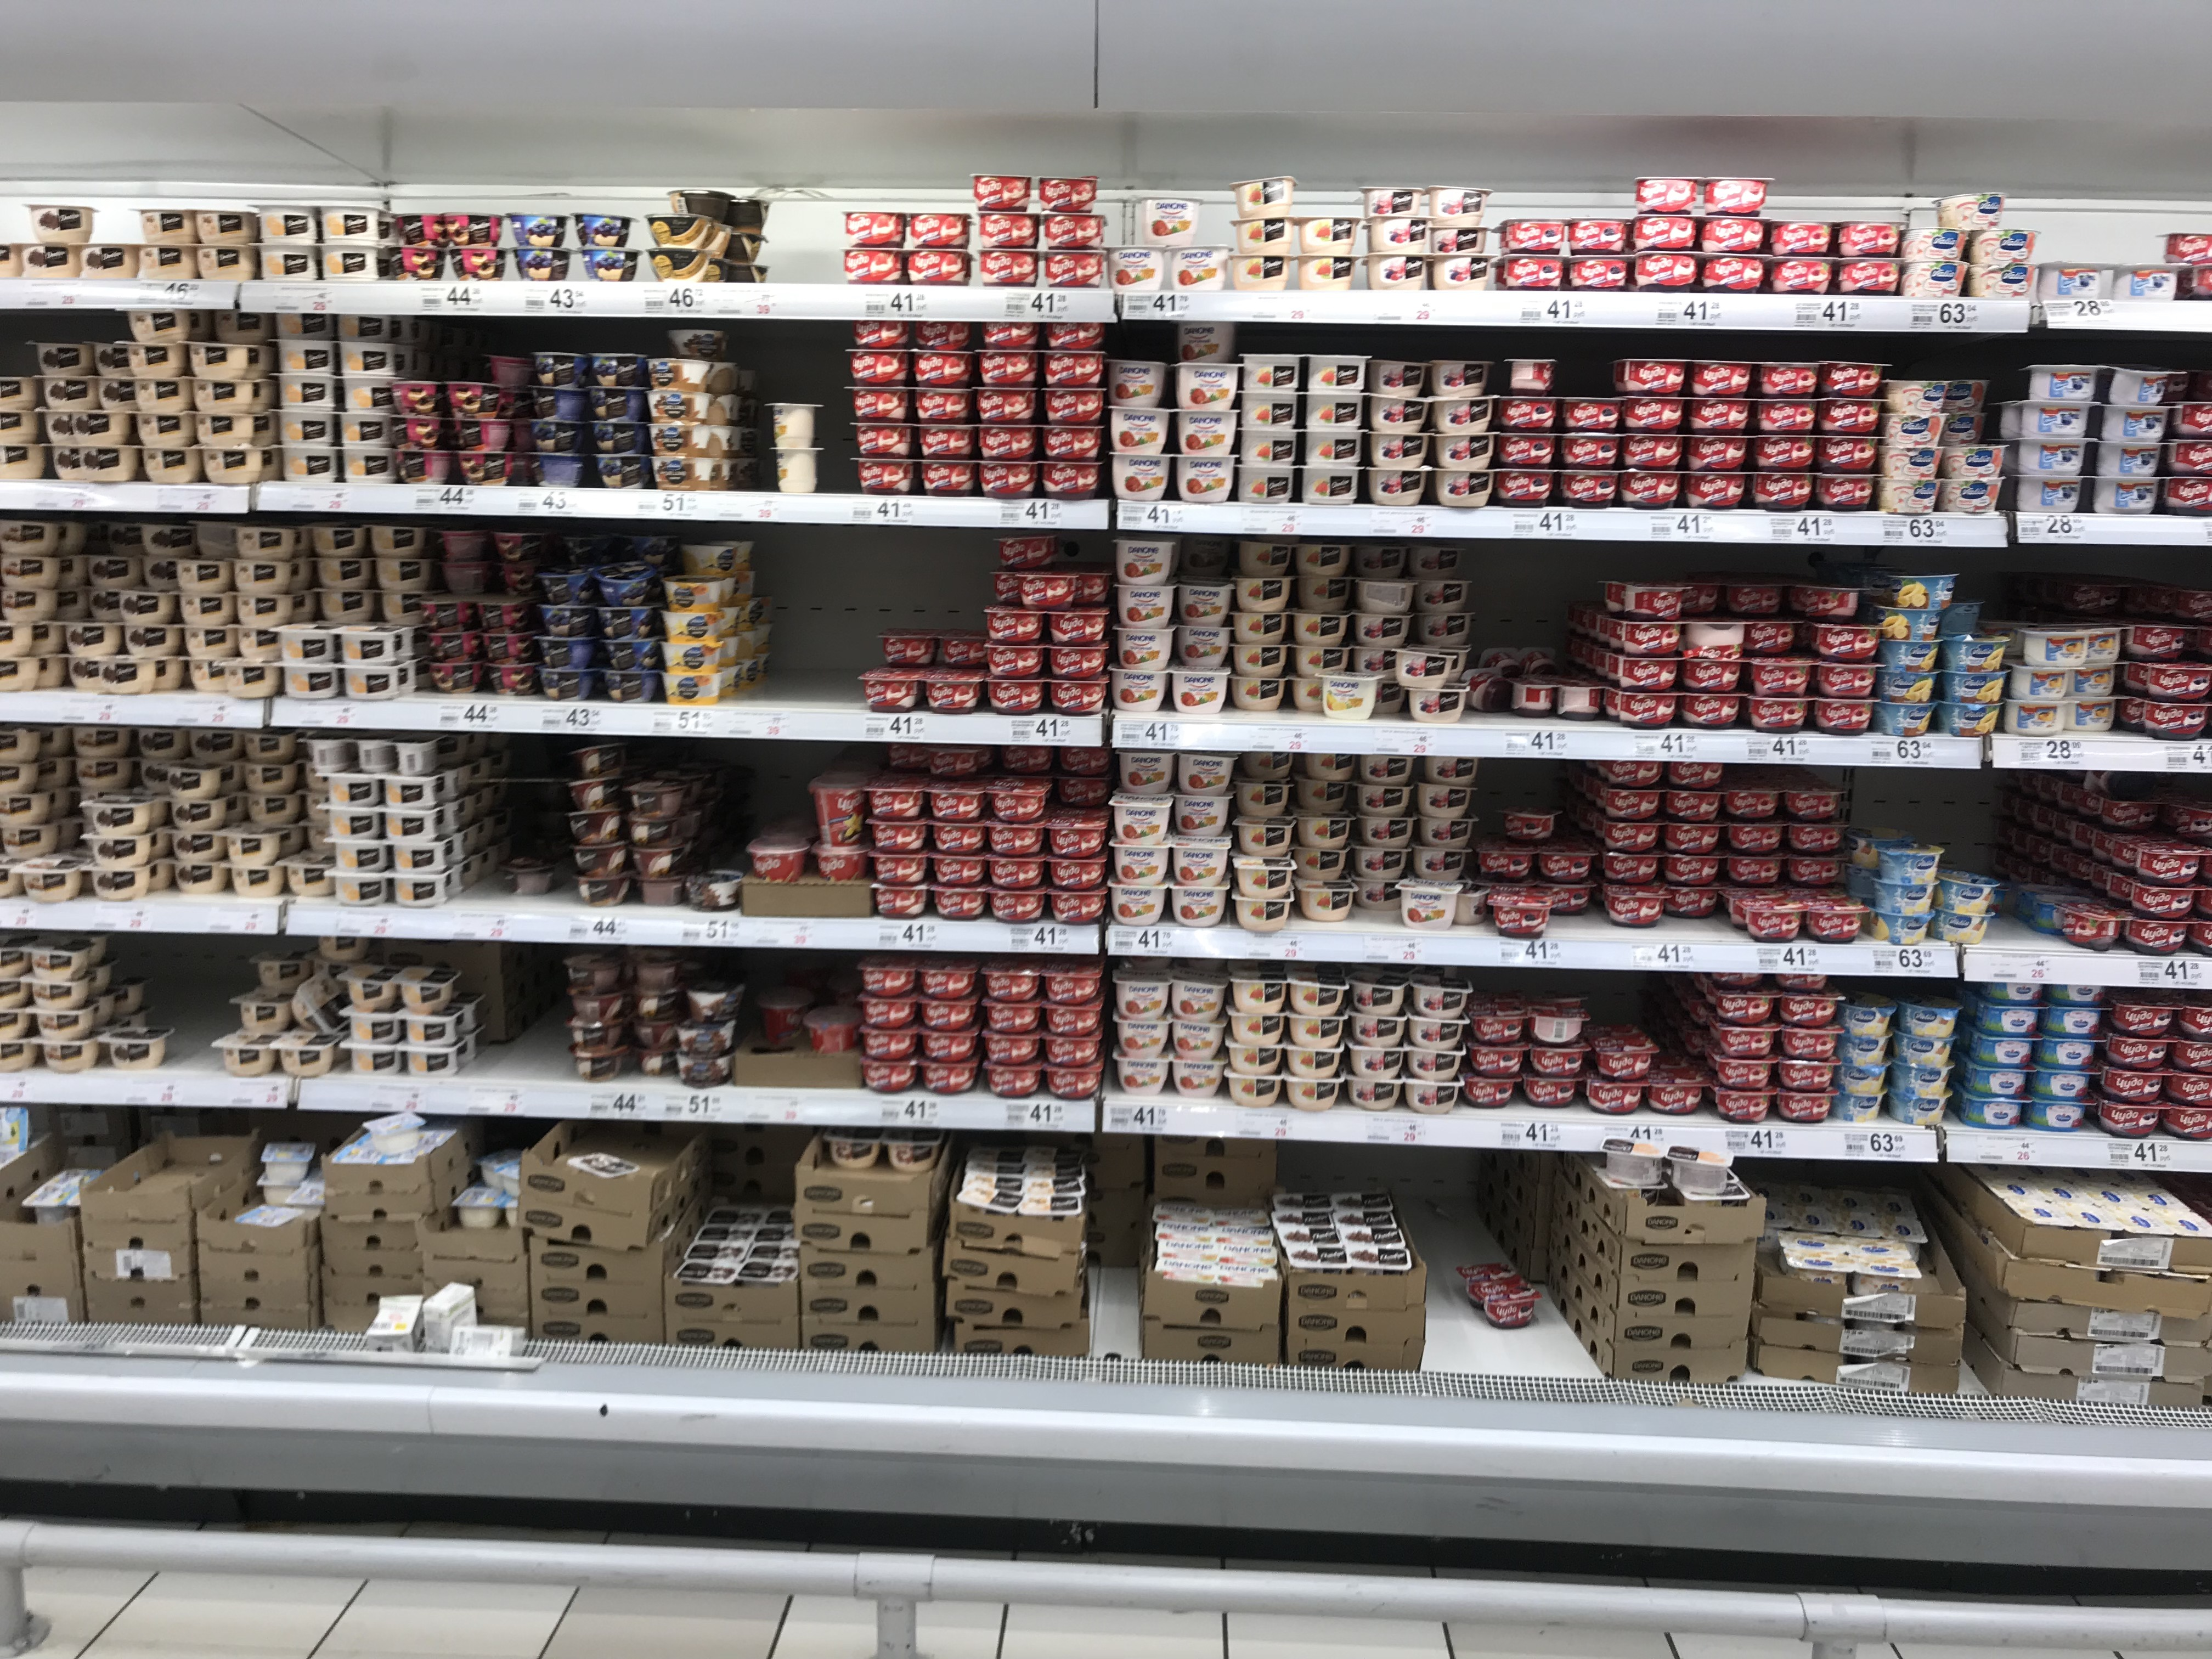yogbox: (810, 775, 866, 849), (2017, 397, 2095, 439), (2134, 842, 2207, 884), (1493, 894, 1557, 941), (747, 838, 805, 890), (805, 1007, 860, 1060), (1872, 840, 1942, 882), (2022, 629, 2092, 671), (2099, 1061, 2170, 1101), (2029, 362, 2101, 403), (1933, 868, 1996, 913), (756, 990, 803, 1047), (923, 673, 988, 714), (1871, 605, 1944, 641), (1482, 1284, 1543, 1328), (2059, 904, 2120, 948), (841, 347, 909, 385), (2015, 472, 2083, 511), (812, 845, 866, 892), (1038, 173, 1101, 213), (1787, 1253, 1850, 1293), (991, 775, 1049, 819), (2015, 439, 2087, 474), (840, 211, 907, 247), (904, 249, 972, 286), (1806, 903, 1865, 945), (906, 207, 970, 246), (979, 249, 1043, 288), (455, 1180, 503, 1230), (361, 1117, 430, 1152), (1851, 1263, 1921, 1298), (1892, 572, 1958, 608), (1040, 460, 1103, 498), (881, 629, 939, 671), (928, 782, 986, 824), (2006, 699, 2069, 737), (860, 673, 920, 713), (1595, 1040, 1660, 1077), (975, 213, 1036, 251), (1959, 1094, 2026, 1129), (2010, 664, 2076, 699), (1648, 1072, 1705, 1112), (1608, 890, 1665, 931), (1500, 803, 1562, 840), (1017, 572, 1076, 610), (981, 962, 1040, 1000), (1587, 1075, 1646, 1114), (864, 850, 932, 884), (1712, 1025, 1777, 1060), (1474, 847, 1538, 882), (2038, 263, 2102, 298), (859, 955, 914, 995), (911, 349, 972, 385), (1932, 906, 1993, 943), (2135, 884, 2196, 920), (2146, 702, 2207, 739), (981, 460, 1038, 498), (998, 532, 1055, 570), (1529, 1007, 1587, 1046), (2130, 918, 2188, 957), (2135, 620, 2193, 659), (1597, 819, 1663, 852), (1045, 1065, 1104, 1101), (1714, 1086, 1773, 1122), (1721, 784, 1780, 821), (1785, 788, 1844, 824), (1787, 819, 1846, 856), (1869, 911, 1928, 948), (2113, 368, 2172, 404), (920, 960, 974, 1000), (1465, 1072, 1521, 1110), (968, 174, 1033, 207), (977, 999, 1042, 1032), (1043, 214, 1104, 249), (930, 821, 988, 857), (1726, 854, 1784, 890), (2151, 664, 2209, 701), (838, 247, 904, 279), (1534, 845, 1597, 878), (1980, 1004, 2043, 1037), (1045, 967, 1099, 1006), (2118, 1002, 2177, 1037), (986, 605, 1042, 641), (1049, 817, 1104, 854), (986, 821, 1047, 854), (2102, 404, 2163, 437), (866, 782, 923, 817), (988, 887, 1045, 922), (923, 1060, 981, 1094), (1663, 789, 1721, 824), (1714, 1060, 1777, 1091), (1726, 823, 1789, 854), (1975, 1035, 2038, 1066), (2099, 441, 2158, 474), (871, 884, 927, 918), (984, 1032, 1040, 1066), (1667, 884, 1723, 918), (855, 460, 916, 491), (930, 884, 982, 920), (1747, 904, 1799, 941), (1843, 1000, 1895, 1037), (1043, 354, 1101, 387), (1780, 992, 1838, 1025), (263, 1138, 308, 1180), (939, 629, 986, 669), (921, 460, 975, 495), (1047, 1000, 1101, 1035), (1529, 1044, 1583, 1079), (1780, 1089, 1834, 1124), (1784, 1025, 1838, 1060), (981, 1065, 1040, 1096), (1602, 788, 1662, 819), (1595, 854, 1658, 884), (1872, 880, 1932, 911), (2033, 1096, 2092, 1127), (2034, 1070, 2094, 1101), (2101, 479, 2160, 511), (1662, 824, 1728, 852), (2066, 662, 2121, 695), (989, 856, 1042, 890), (1054, 892, 1106, 927), (1667, 850, 1719, 885), (1970, 1066, 2031, 1096), (2045, 1007, 2106, 1037), (871, 819, 928, 850), (1900, 1002, 1958, 1033), (981, 352, 1035, 385), (1470, 1009, 1524, 1042), (1712, 992, 1771, 1021), (1045, 1035, 1101, 1066), (928, 746, 981, 779), (1470, 1042, 1527, 1072), (1895, 1065, 1952, 1094), (1787, 854, 1841, 885), (1050, 681, 1101, 714), (2104, 1101, 2160, 1131), (2113, 1037, 2172, 1065), (1049, 390, 1101, 422), (981, 429, 1033, 460), (1052, 613, 1104, 645), (991, 680, 1043, 711), (862, 1061, 914, 1093), (2071, 697, 2118, 732), (2118, 265, 2175, 293), (1049, 321, 1103, 350), (934, 854, 988, 884), (1780, 1061, 1834, 1091), (1892, 1037, 1952, 1063), (1054, 859, 1104, 890), (916, 321, 968, 350), (862, 1032, 914, 1061), (853, 392, 907, 420), (988, 648, 1042, 676), (921, 1000, 975, 1028), (1054, 647, 1104, 676), (923, 1032, 974, 1061), (1897, 1094, 1947, 1124), (1839, 1032, 1890, 1061), (975, 394, 1031, 420), (860, 1002, 916, 1028), (1669, 762, 1724, 788), (1061, 746, 1109, 775), (1527, 1073, 1575, 1103), (2043, 1035, 2090, 1065), (857, 427, 909, 453), (1045, 429, 1097, 455), (1062, 779, 1108, 809), (2048, 983, 2107, 1006), (986, 322, 1036, 349), (853, 321, 907, 345), (1049, 256, 1097, 282), (1611, 762, 1660, 788), (1839, 1068, 1888, 1094), (2087, 624, 2123, 659), (918, 392, 965, 418), (923, 429, 968, 455), (1838, 1096, 1883, 1121), (1987, 985, 2045, 1004), (1007, 749, 1050, 769)
yogbox.danis.tv.cream: (254, 202, 319, 244), (319, 202, 383, 244), (368, 519, 434, 558), (369, 551, 435, 589), (314, 554, 380, 592), (308, 519, 374, 558), (340, 660, 406, 699), (280, 660, 347, 699), (277, 627, 343, 666), (341, 627, 406, 666), (345, 967, 399, 1012), (324, 770, 385, 809), (387, 875, 448, 911), (343, 1009, 404, 1044), (402, 1046, 463, 1080), (343, 1042, 404, 1077), (326, 807, 385, 842), (329, 840, 388, 875), (331, 875, 390, 910), (401, 976, 460, 1011), (399, 1012, 458, 1047), (390, 836, 442, 875), (387, 772, 437, 809), (383, 807, 434, 843), (343, 376, 395, 411), (341, 450, 394, 484), (282, 411, 334, 446), (341, 342, 394, 376), (265, 244, 317, 279), (343, 413, 394, 448), (324, 244, 374, 279), (284, 448, 334, 481), (282, 376, 333, 410), (282, 342, 333, 375)
